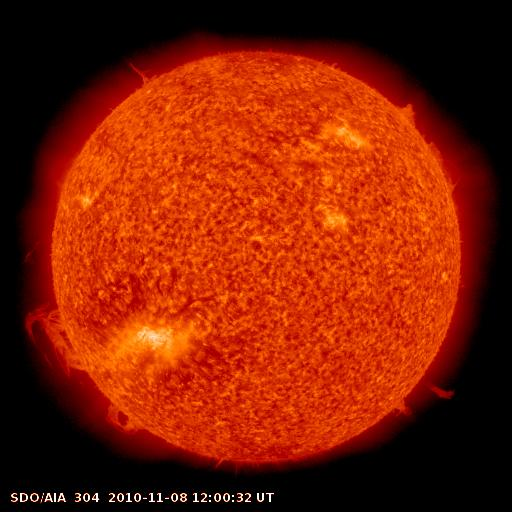prominence: (381, 90, 460, 196), (9, 294, 89, 382), (381, 366, 472, 421), (98, 397, 162, 447), (10, 225, 69, 270), (116, 43, 167, 94)
